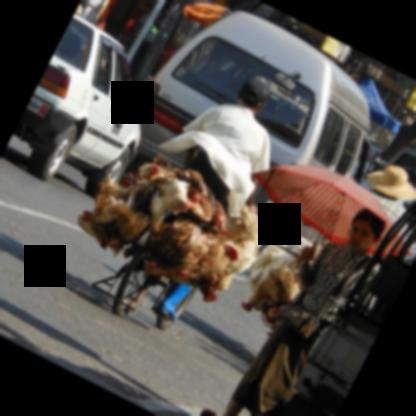handbag: (278, 254, 372, 339)
